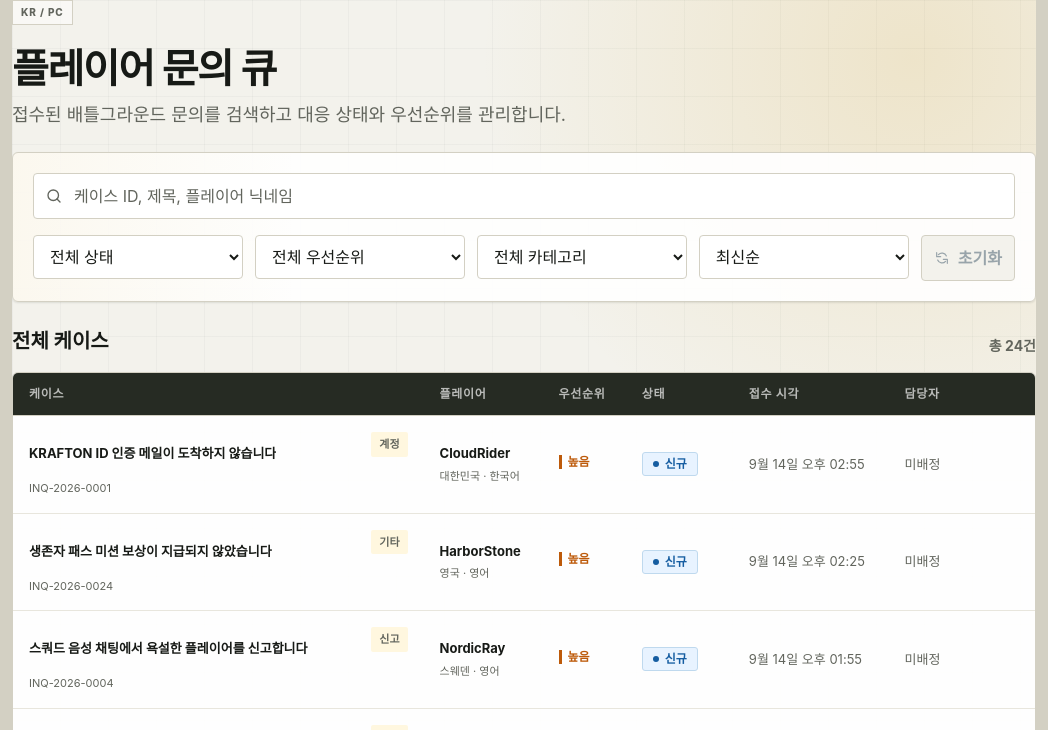
Test: InquiryListView › 상태 필터를 URL과 동기화하고 해당 문의만 표시한다
Step 1. Select "해결" in the dropdown with id "status-filter" → (138,257), box [33, 235, 243, 279]
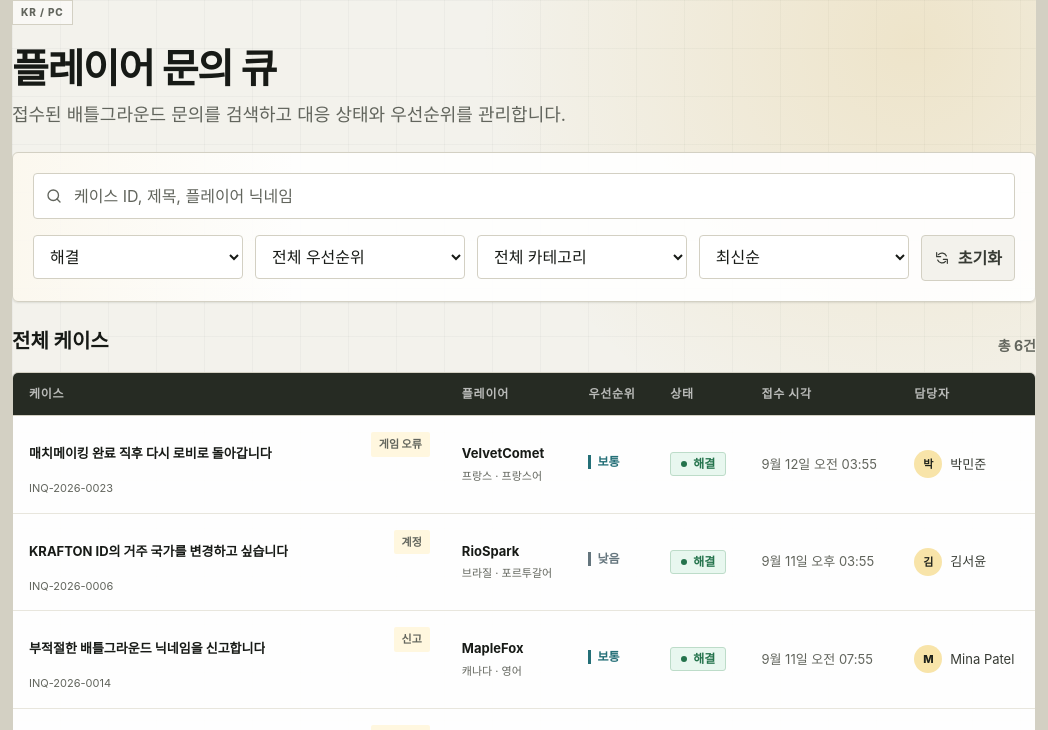
Expected: the row that starts with "매치메이킹 완료 직후 다시 로비로 돌아갑니다" is shown, [13, 416, 1035, 513]
